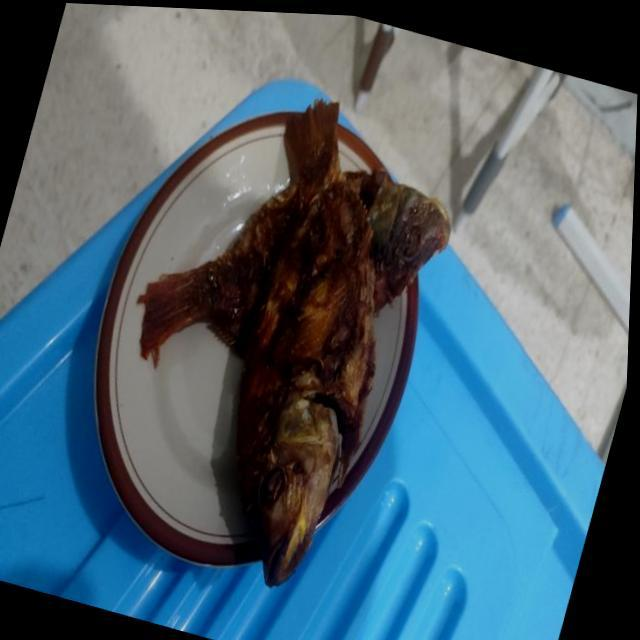ikan_mujair: (236, 100, 376, 586), (138, 169, 451, 364)
